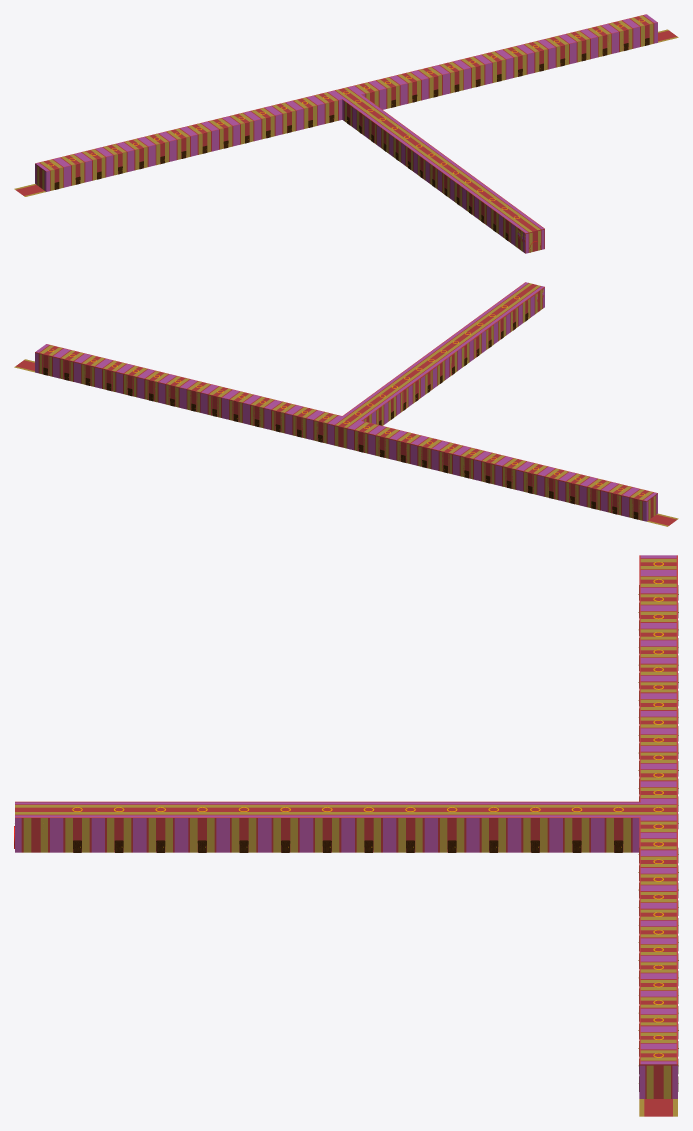
The model's file is dorm-hall-v7.glb.
3 views of the same model, one above another, from view 1: azimuth 30°, elevation 25°; view 2: azimuth 150°, elevation 25°; view 3: azimuth 270°, elevation 25° (orthographic). The views are drawn at different scales.
Parts seen in each view (by area): view 1: Cube.036, Cube.027, Cube.001, Cube.042, Cube.037, Cube.020, Cube.033, Cube.010, Cube.005, Cube; view 2: Cube.026, Cube.035, Cube.042, Cube.001, Cube.020, Cube.037, Cube.009, Cube.033, Cube.010, Cube.032, Cube.005, Cube.043; view 3: Cube.004, Cube.042, Cube.020, Cube.037, Cube.005, Cube.024, Cube.010, Cube.033.
Part boxes in pixels (x1,y1,x2,y2): Cube.036: [46, 99, 342, 191]; Cube.027: [362, 22, 657, 109]; Cube.001: [342, 99, 525, 253]; Cube.042: [332, 86, 543, 232]; Cube.037: [36, 91, 341, 171]; Cube.020: [351, 14, 657, 94]; Cube.033: [35, 89, 341, 171]; Cube.010: [341, 14, 657, 94]; Cube.005: [342, 94, 544, 233]; Cube: [525, 228, 544, 253]; Cube.026: [35, 353, 330, 444]; Cube.035: [350, 429, 646, 521]; Cube.042: [332, 282, 543, 428]; Cube.001: [363, 287, 544, 425]; Cube.020: [36, 344, 341, 423]; Cube.037: [351, 421, 656, 500]; Cube.009: [42, 354, 324, 442]; Cube.033: [341, 421, 657, 501]; Cube.010: [35, 344, 341, 427]; Cube.032: [357, 432, 639, 519]; Cube.005: [342, 282, 544, 420]; Cube.043: [331, 425, 350, 449]; Cube.004: [15, 818, 639, 852]; Cube.042: [15, 801, 676, 817]; Cube.020: [640, 818, 676, 1064]; Cube.037: [640, 555, 676, 801]; Cube.005: [15, 801, 640, 817]; Cube.024: [639, 1064, 677, 1098]; Cube.010: [639, 809, 677, 1065]; Cube.033: [639, 555, 677, 809].
Size of the model in its own units: 241 by 7.54 by 125.
72 materials, 64 textured.
